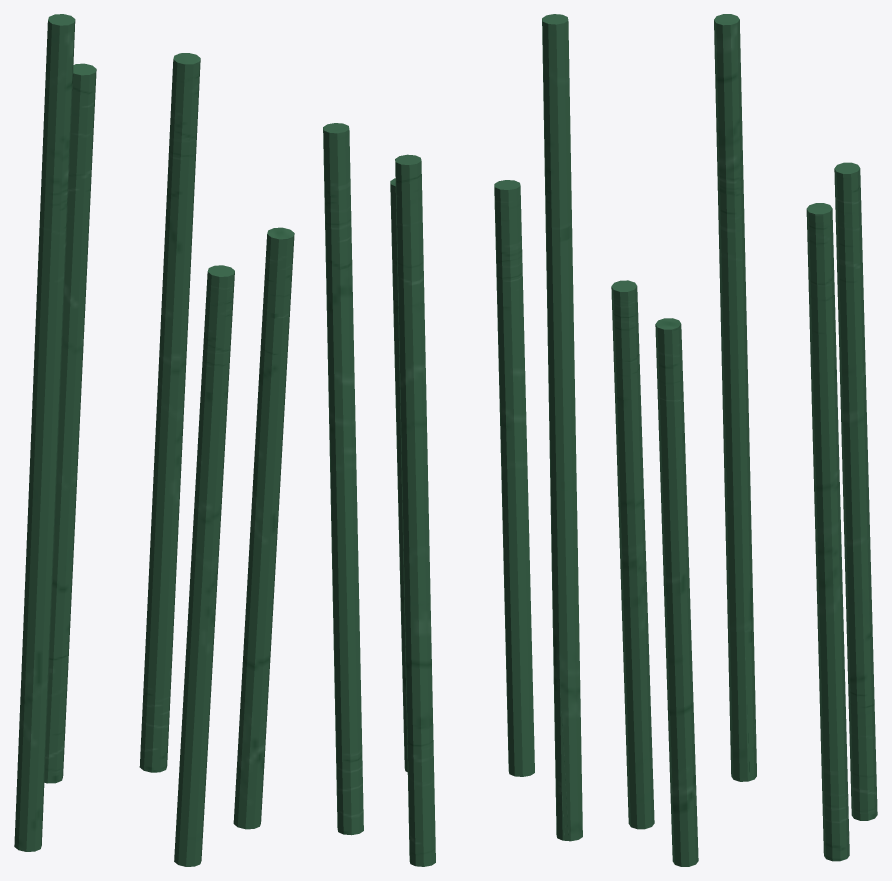
The model's file is moonfall_bamboo_grove_lod1.glb.
The picture shows the model from 3 angles, left to right: view 1: azimuth 30°, elevation 25°; view 2: azimuth 150°, elevation 25°; view 3: azimuth 270°, elevation 25°; orthographic projection. The views are drawn at different scales.
Visible parts, largest first — view 1: moonfall_bamboo_grove_058, moonfall_bamboo_grove_050, moonfall_bamboo_grove_052, moonfall_bamboo_grove_056, moonfall_bamboo_grove_054, moonfall_bamboo_grove_033, moonfall_bamboo_grove_029, moonfall_bamboo_grove_025, moonfall_bamboo_grove_031, moonfall_bamboo_grove_027, moonfall_bamboo_grove_083, moonfall_bamboo_grove_008 (+13 smaller); view 2: moonfall_bamboo_grove_058, moonfall_bamboo_grove_052, moonfall_bamboo_grove_050, moonfall_bamboo_grove_056, moonfall_bamboo_grove_054, moonfall_bamboo_grove_108, moonfall_bamboo_grove_033, moonfall_bamboo_grove_025, moonfall_bamboo_grove_106, moonfall_bamboo_grove_027, moonfall_bamboo_grove_031, moonfall_bamboo_grove_104 (+12 smaller); view 3: moonfall_bamboo_grove_058, moonfall_bamboo_grove_056, moonfall_bamboo_grove_052, moonfall_bamboo_grove_050, moonfall_bamboo_grove_054, moonfall_bamboo_grove_108, moonfall_bamboo_grove_033, moonfall_bamboo_grove_025, moonfall_bamboo_grove_104, moonfall_bamboo_grove_100, moonfall_bamboo_grove_031, moonfall_bamboo_grove_027 (+13 smaller).
Boxes of the visible parts, x1,y1,x2,y2 form: moonfall_bamboo_grove_058: [41, 14, 75, 190]; moonfall_bamboo_grove_050: [14, 680, 48, 851]; moonfall_bamboo_grove_052: [21, 515, 55, 686]; moonfall_bamboo_grove_056: [34, 185, 68, 356]; moonfall_bamboo_grove_054: [28, 350, 61, 521]; moonfall_bamboo_grove_033: [166, 53, 200, 205]; moonfall_bamboo_grove_029: [153, 342, 187, 489]; moonfall_bamboo_grove_025: [139, 625, 173, 772]; moonfall_bamboo_grove_031: [160, 200, 193, 347]; moonfall_bamboo_grove_027: [146, 483, 180, 630]; moonfall_bamboo_grove_083: [260, 227, 294, 357]; moonfall_bamboo_grove_008: [201, 265, 234, 394]; moonfall_bamboo_grove_058: [542, 14, 571, 187]; moonfall_bamboo_grove_052: [550, 509, 579, 677]; moonfall_bamboo_grove_050: [553, 673, 582, 841]; moonfall_bamboo_grove_056: [545, 183, 574, 351]; moonfall_bamboo_grove_054: [547, 345, 576, 514]; moonfall_bamboo_grove_108: [395, 154, 424, 305]; moonfall_bamboo_grove_033: [323, 123, 352, 273]; moonfall_bamboo_grove_025: [334, 690, 363, 835]; moonfall_bamboo_grove_106: [398, 300, 427, 445]; moonfall_bamboo_grove_027: [331, 549, 360, 694]; moonfall_bamboo_grove_031: [326, 269, 355, 413]; moonfall_bamboo_grove_104: [401, 441, 430, 586]; moonfall_bamboo_grove_058: [714, 14, 743, 176]; moonfall_bamboo_grove_056: [717, 171, 746, 327]; moonfall_bamboo_grove_052: [724, 474, 753, 630]; moonfall_bamboo_grove_050: [727, 625, 756, 781]; moonfall_bamboo_grove_054: [721, 322, 750, 479]; moonfall_bamboo_grove_108: [834, 162, 863, 303]; moonfall_bamboo_grove_033: [806, 203, 835, 343]; moonfall_bamboo_grove_025: [820, 726, 849, 861]; moonfall_bamboo_grove_104: [841, 427, 870, 561]; moonfall_bamboo_grove_100: [848, 686, 877, 820]; moonfall_bamboo_grove_031: [810, 338, 839, 472]; moonfall_bamboo_grove_027: [817, 597, 846, 731].
Bounding box in the file's own units: 2.91 × 9.81 × 3.08.
Materials: 1 (1 with a texture image).
